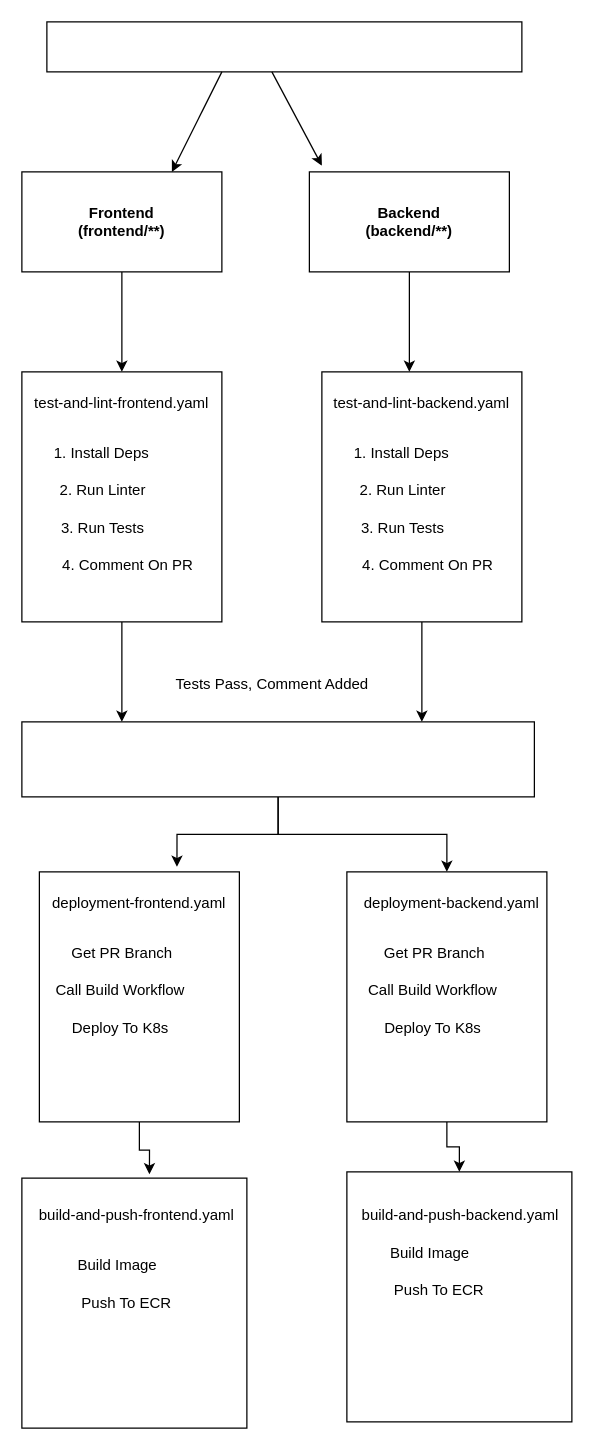
The diagram is 594 pixels wide and 1450 high, and some of its shapes have lost their labels. The shapes that lost their labels are listed below. From the top down, each one's centre as x and y in pixels, then its label:
At (x=284, y=46): "Pull Request Created".
At (x=277, y=759): "User Comments : /deploy-frontend or /deploy-backend".
